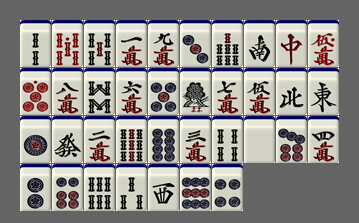0m: (308, 20, 339, 67)
0p: (20, 68, 51, 115)
0s: (52, 20, 83, 67)
1m: (116, 20, 147, 67)
1p: (20, 116, 51, 163)
1s: (180, 68, 211, 115)
1z: (308, 68, 339, 115)
2m: (84, 116, 115, 163)
2p: (20, 164, 51, 211)
2s: (20, 20, 51, 67)
2z: (244, 20, 275, 67)
3m: (180, 116, 211, 163)
3p: (180, 20, 211, 67)
3s: (116, 164, 147, 211)
3z: (148, 164, 179, 211)
4m: (308, 116, 339, 163)
4p: (212, 164, 243, 211)
4s: (212, 116, 243, 163)
4z: (276, 68, 307, 115)
5m: (244, 68, 275, 115)
5p: (148, 68, 179, 115)
5s: (84, 20, 115, 67)
5z: (244, 116, 275, 163)
6m: (116, 68, 147, 115)
6p: (52, 164, 83, 211)
6s: (84, 164, 115, 211)
6z: (52, 116, 83, 163)
7m: (212, 68, 243, 115)
7p: (276, 116, 307, 163)
7s: (212, 20, 243, 67)
7z: (276, 20, 307, 67)
8m: (52, 68, 83, 115)
8p: (148, 116, 179, 163)
8s: (84, 68, 115, 115)
9m: (148, 20, 179, 67)
9p: (180, 164, 211, 211)
9s: (116, 116, 147, 163)
